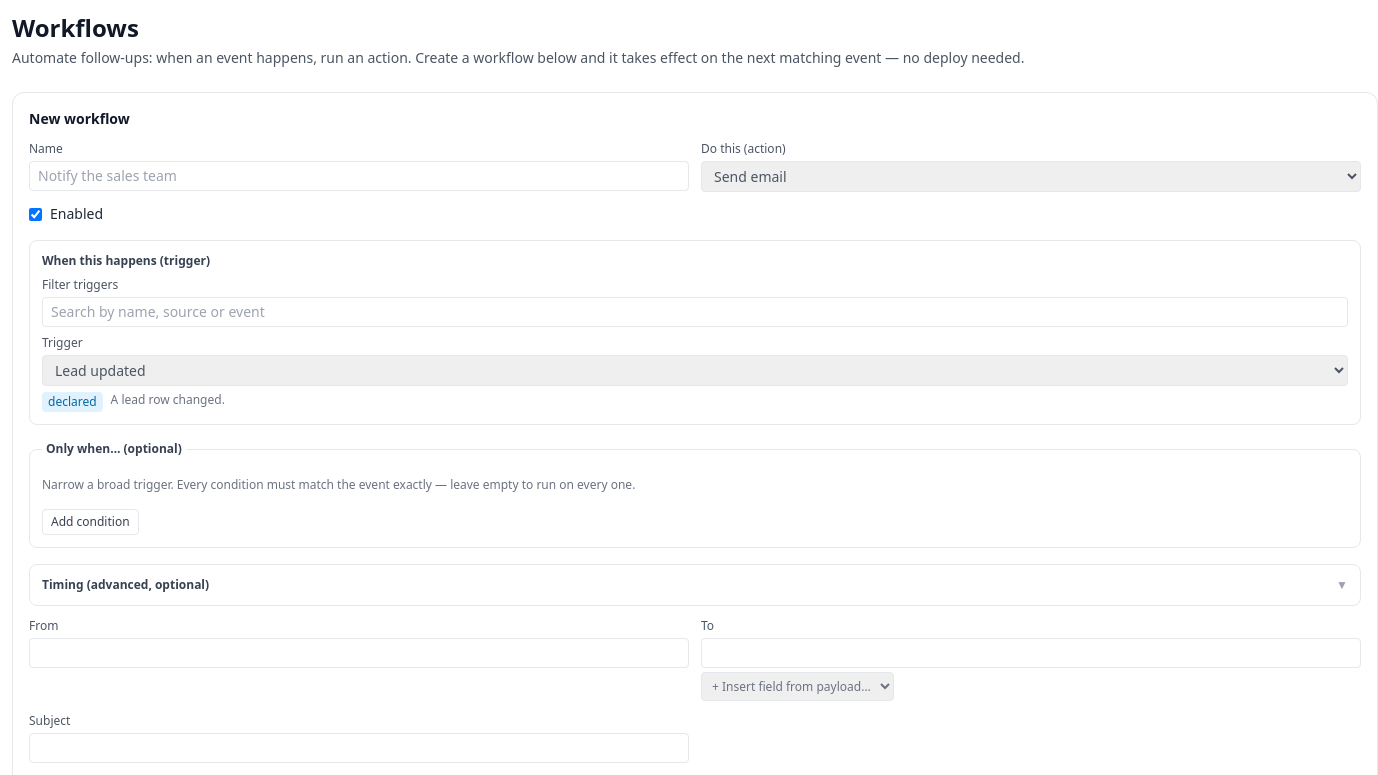
OrchestrationPage › appends the chosen field as a {field} template into the recipient input
Type "fallback@example.com" into the field labelled "To".
click(1031, 653); type("fallback@example.com")  # box [701, 638, 1361, 668]
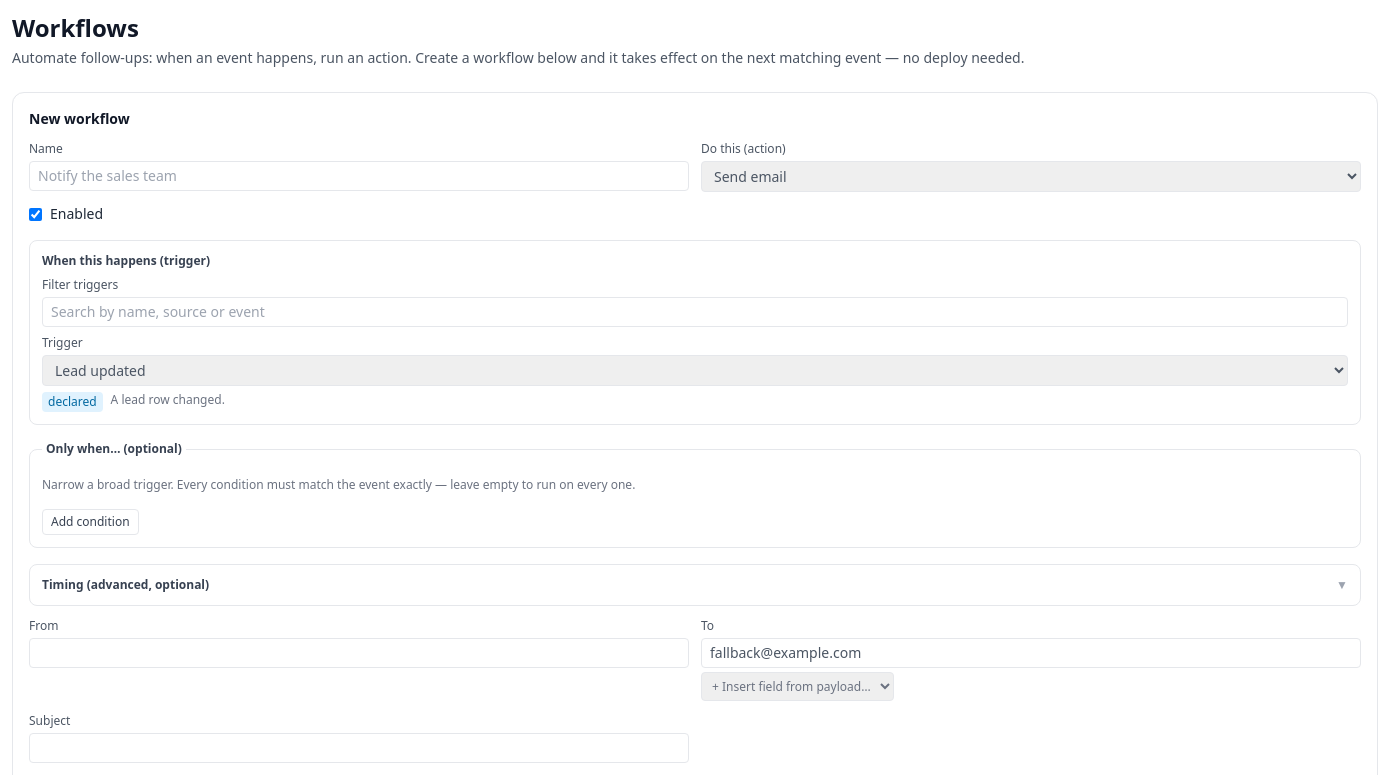
Select "Status (status)" in the dropdown named "Insert a trigger field into To" at (798, 686), box [701, 672, 894, 701]
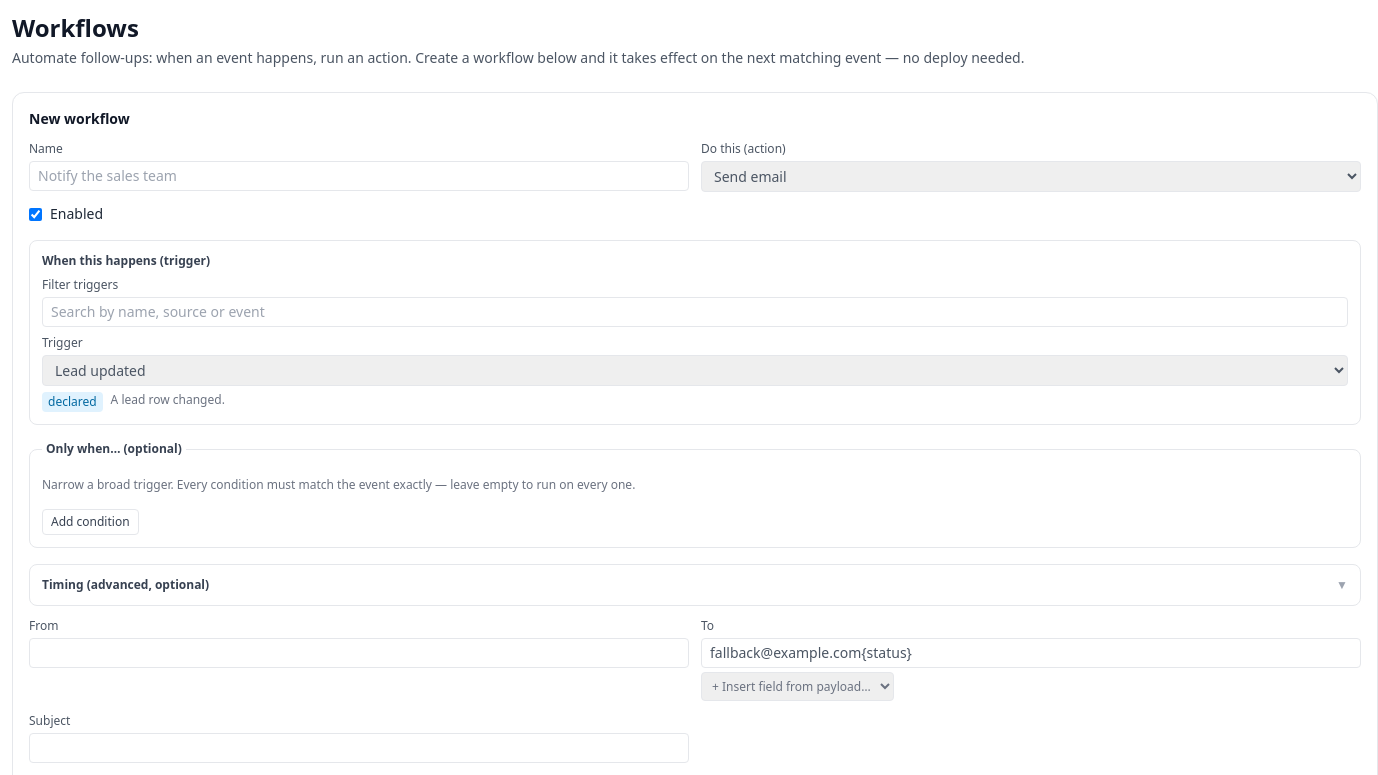
expect the field labelled "To" holds "fallback@example.com{status}": met, box [701, 638, 1361, 668]
